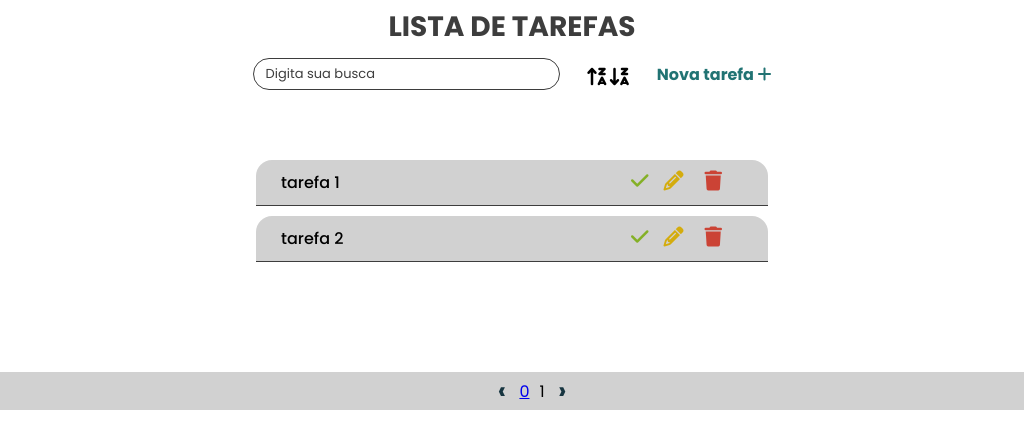
Teste de listagem de tarefas › Filtar tarefa
Type "tarefa 1" into the search field with test id "Inputsearch" at (406, 74), box top-left (253, 58), bottom-right (560, 90)
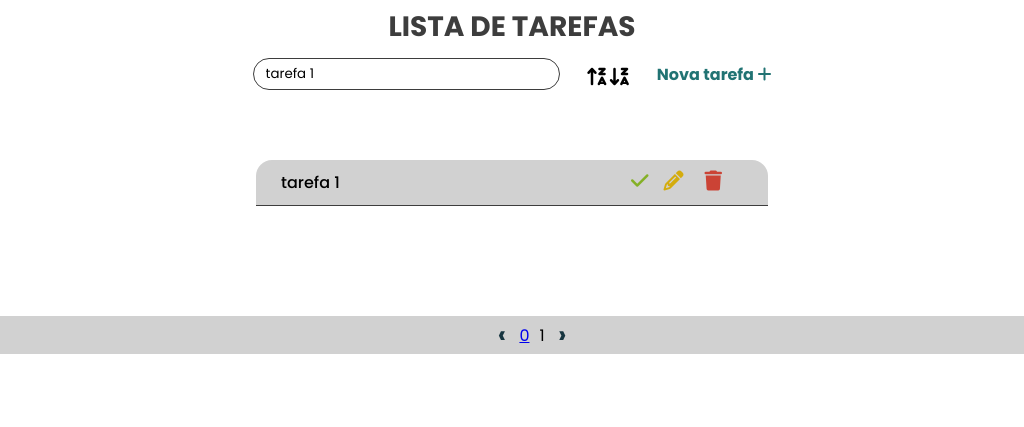
expect the element with test id "tabela" reads "tarefa 1": met, box top-left (281, 171), bottom-right (340, 194)
expect the element with test id "tabela" no longer shows "tarefa 2": met, box top-left (256, 160), bottom-right (768, 216)
